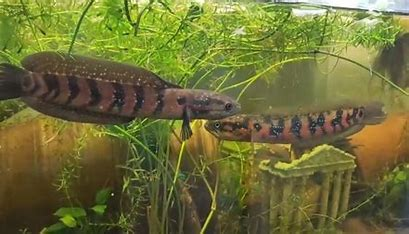Fish: (2, 40, 245, 146), (203, 97, 401, 158)
